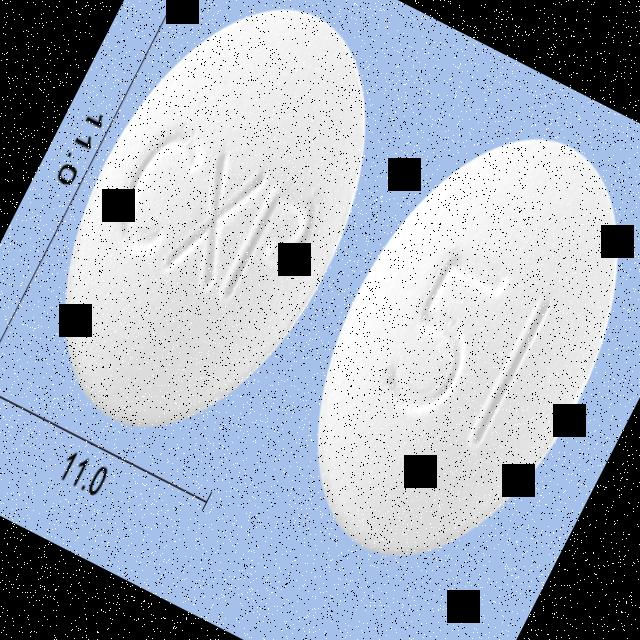Ciprotwo: (0, 0, 435, 485), (249, 85, 640, 613)
